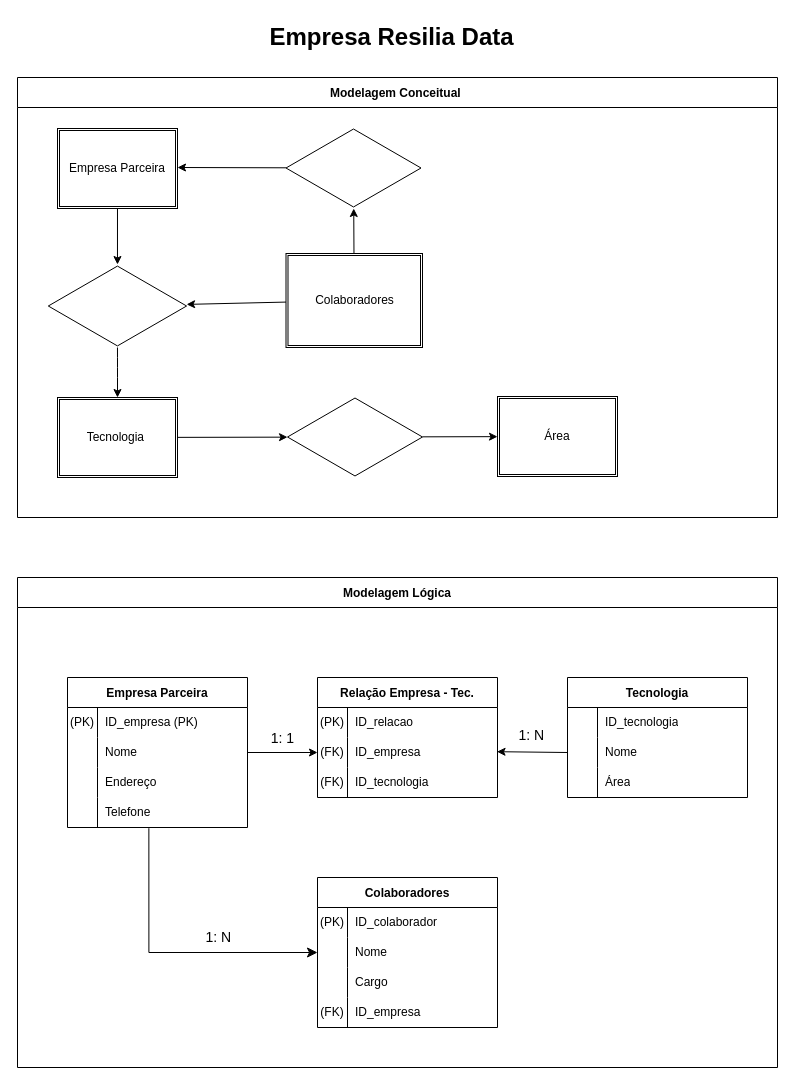
The diagram is 795 pixels wide and 1085 high, and some of its shapes have lost their labels. The centre of each missing label's shape, as x and y in pixels:
Aplica: point (354, 437)
Trabalha: point (353, 167)
Utiliza: point (117, 306)
